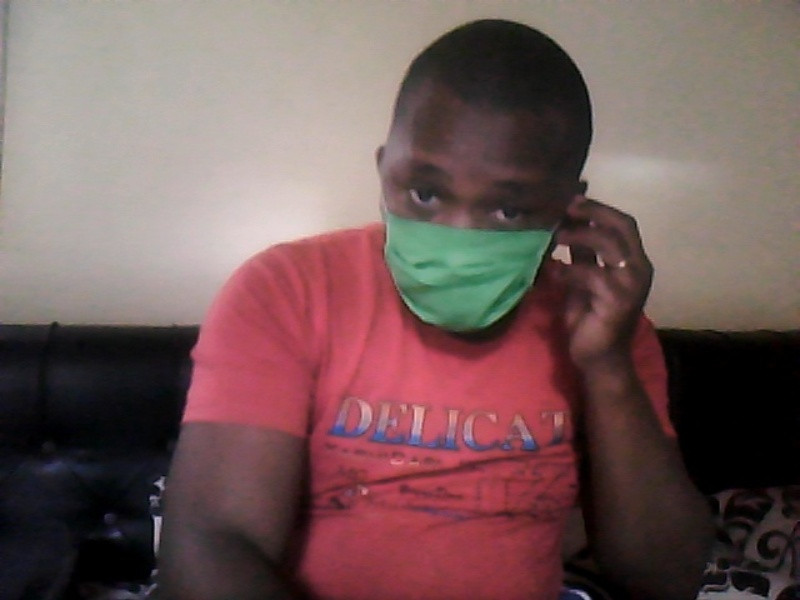ManaoArotava: (365, 28, 595, 359)
